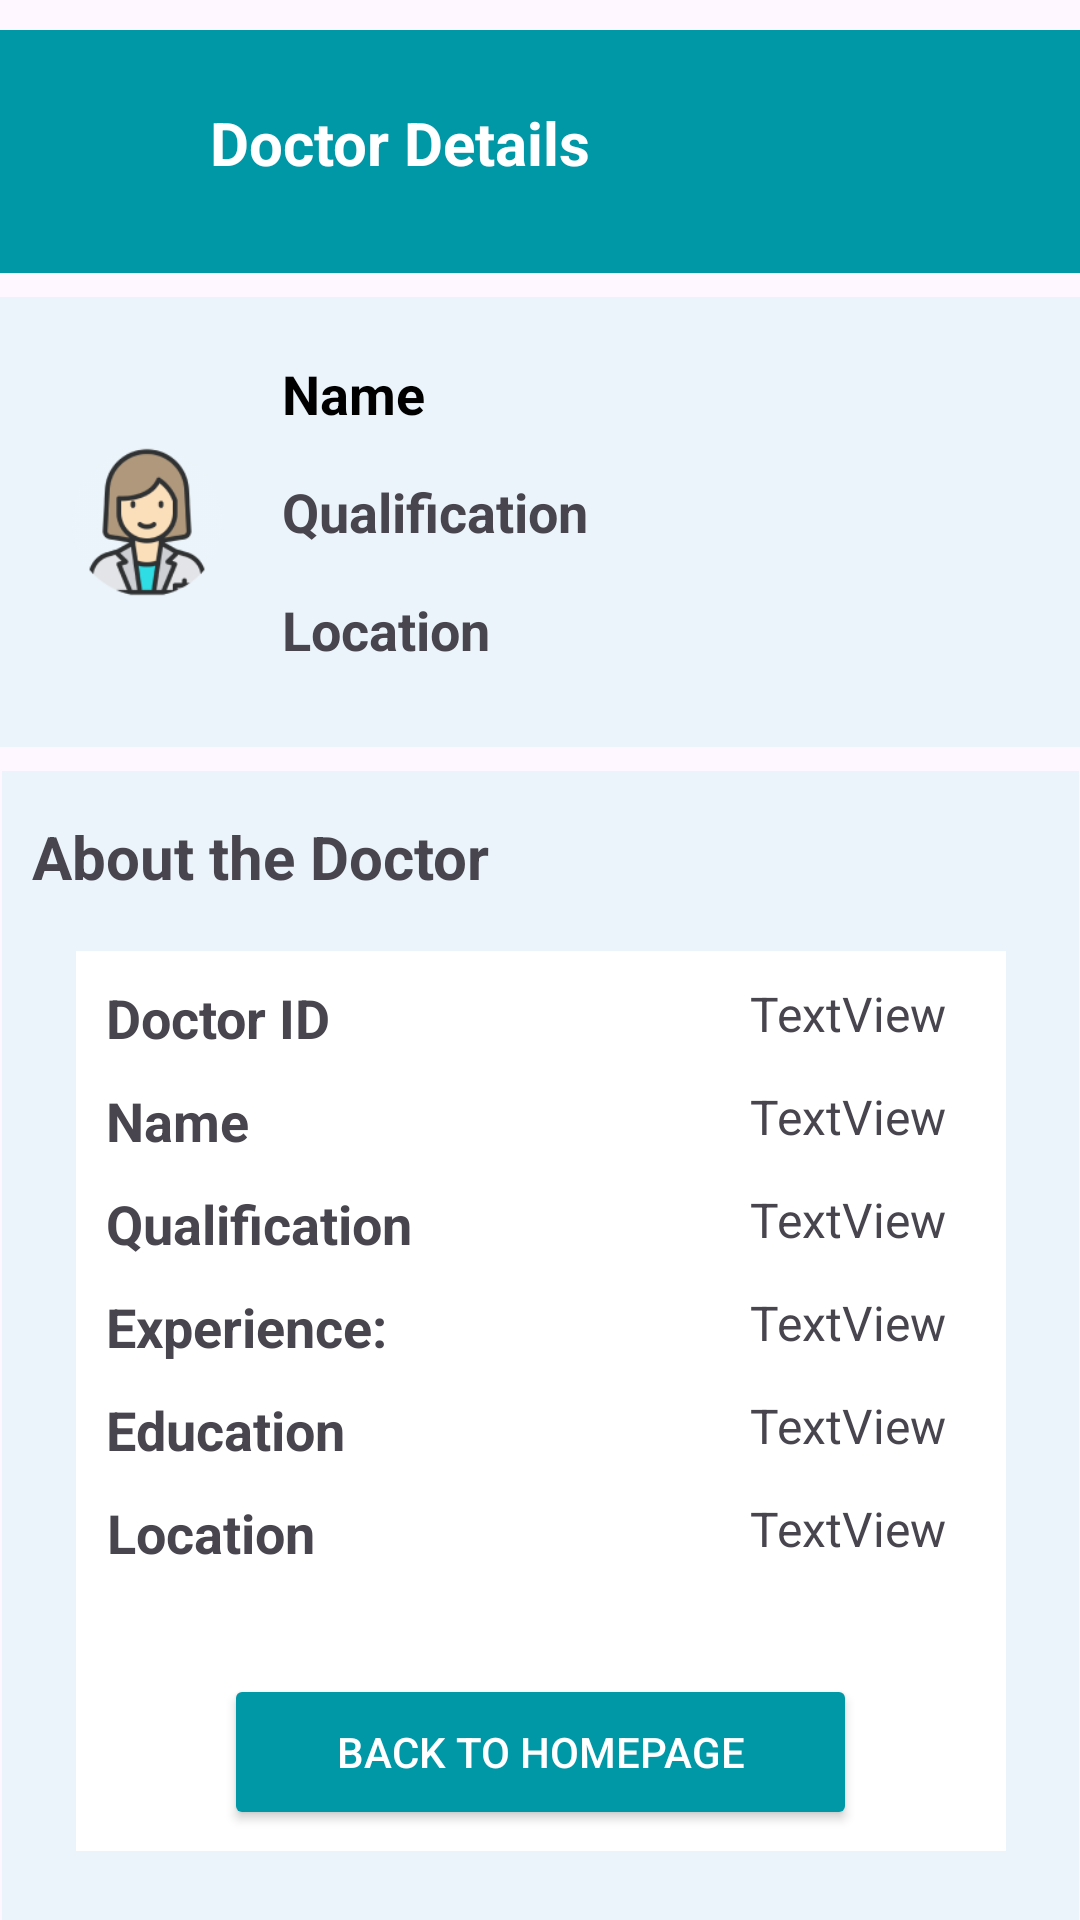

Icons on this 1080 × 1920 Android screen, each with its box as box(x1, y1, x2, y2):
doc profile: box(89, 449, 205, 596)
